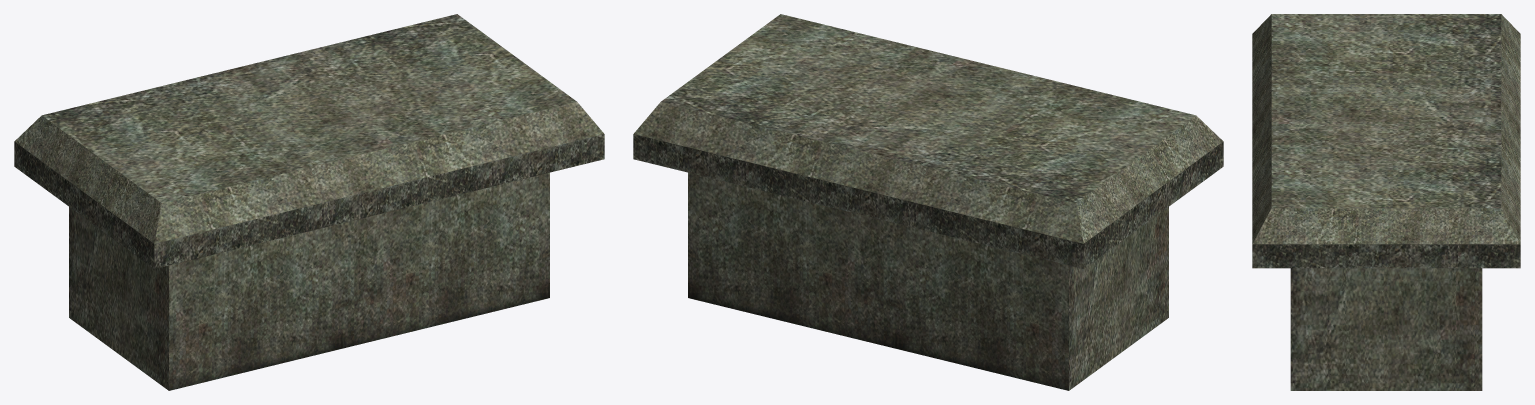
File: tombstone_med_02.fbx
3 views of the same model, side by side, from view 1: azimuth 30°, elevation 25°; view 2: azimuth 150°, elevation 25°; view 3: azimuth 270°, elevation 25° (orthographic). The views are drawn at different scales.
Visible parts, largest first — view 1: mesh_1, mesh_0; view 2: mesh_1, mesh_0; view 3: mesh_1, mesh_0.
Part boxes in pixels (<box>): mesh_1: <box>14,14,604,268</box>; mesh_0: <box>69,172,549,390</box>; mesh_1: <box>633,14,1223,268</box>; mesh_0: <box>688,172,1168,390</box>; mesh_1: <box>1252,14,1520,268</box>; mesh_0: <box>1290,268,1482,390</box>.
Size of the model in its own units: 260 by 110 by 140.
1 material, 1 textured.
